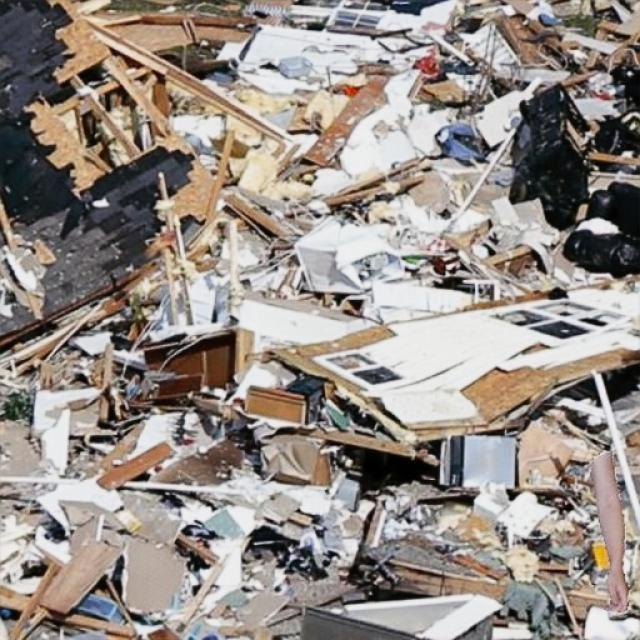Person in Rubble: (589, 452, 630, 612)
